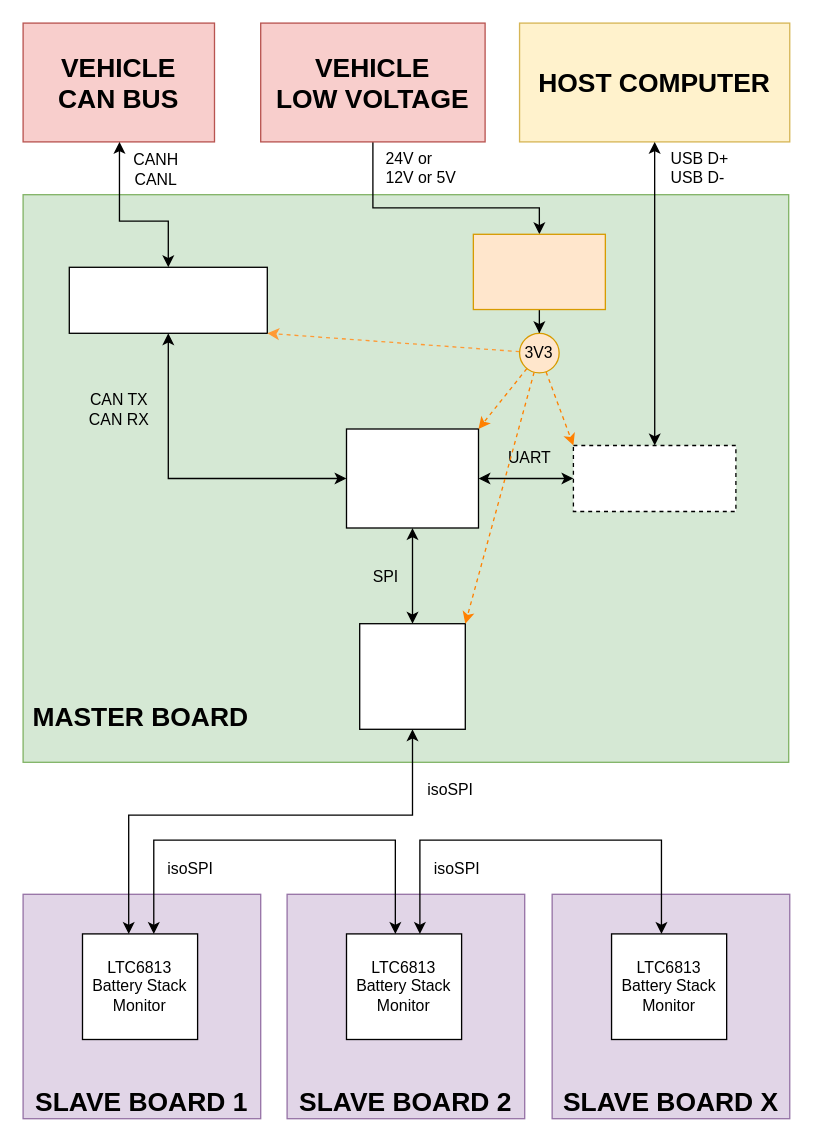
This 813x1142 diagram has some shape labels left out. Here are the shapes that lost their labels. From the top down, the centre of each, then its label:
At (538,271): "24V-5V to 3V3 buck converter".
At (167,299): "ISO1050DUBR Isolated CAN Transceiver".
At (411,478): "LPC4078 Microcontroller".
At (654,478): "CP2102N USB-UART Bridge".
At (411,675): "LTC6820 isoSPI Interface".
